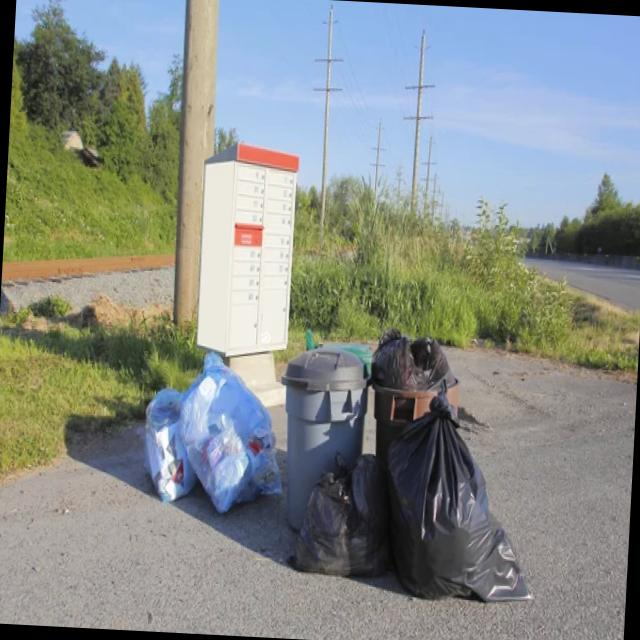garbage: (260, 409, 504, 640), (58, 338, 272, 580)
